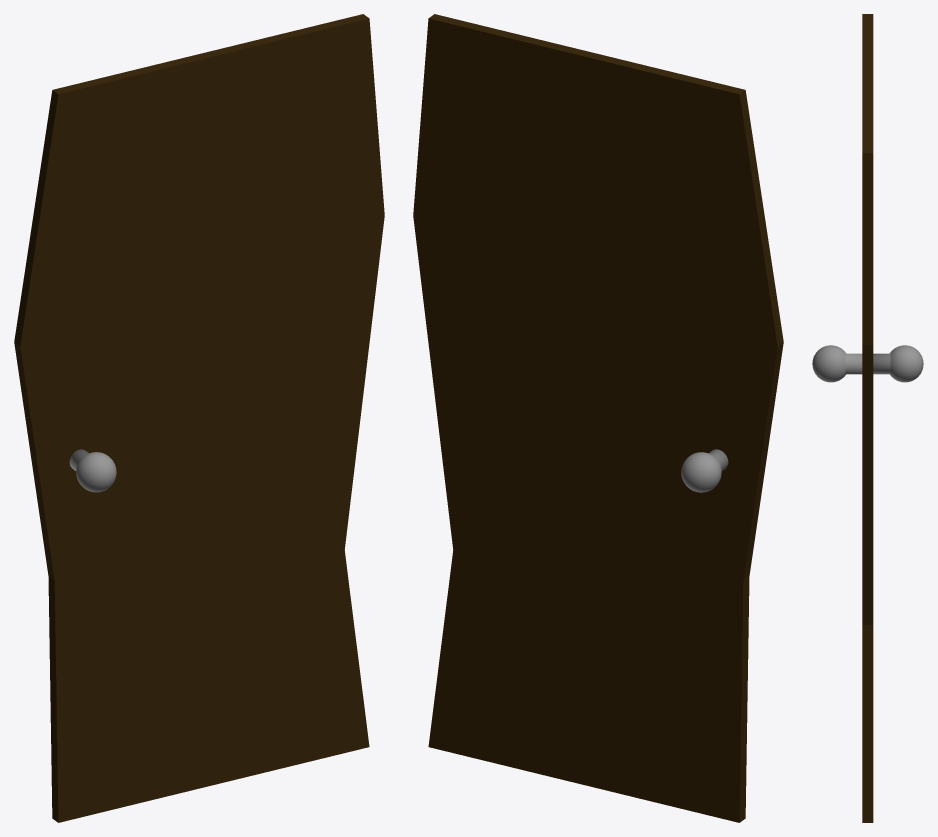
Rendered from Door.fbx.
3 views of the same model, side by side, from view 1: azimuth 30°, elevation 25°; view 2: azimuth 150°, elevation 25°; view 3: azimuth 270°, elevation 25° (orthographic). The views are drawn at different scales.
Visible parts, largest first — view 1: Door; view 2: Door; view 3: Door.
Boxes of the visible parts, x1,y1,x2,y2 form: Door: (14, 14, 384, 822); Door: (413, 14, 783, 822); Door: (812, 14, 923, 822).
Bounding box in the file's own units: 105 × 200 × 30.08.
